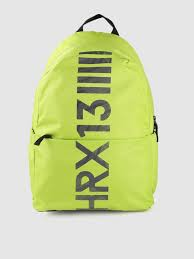backpack: (28, 13, 159, 212)
